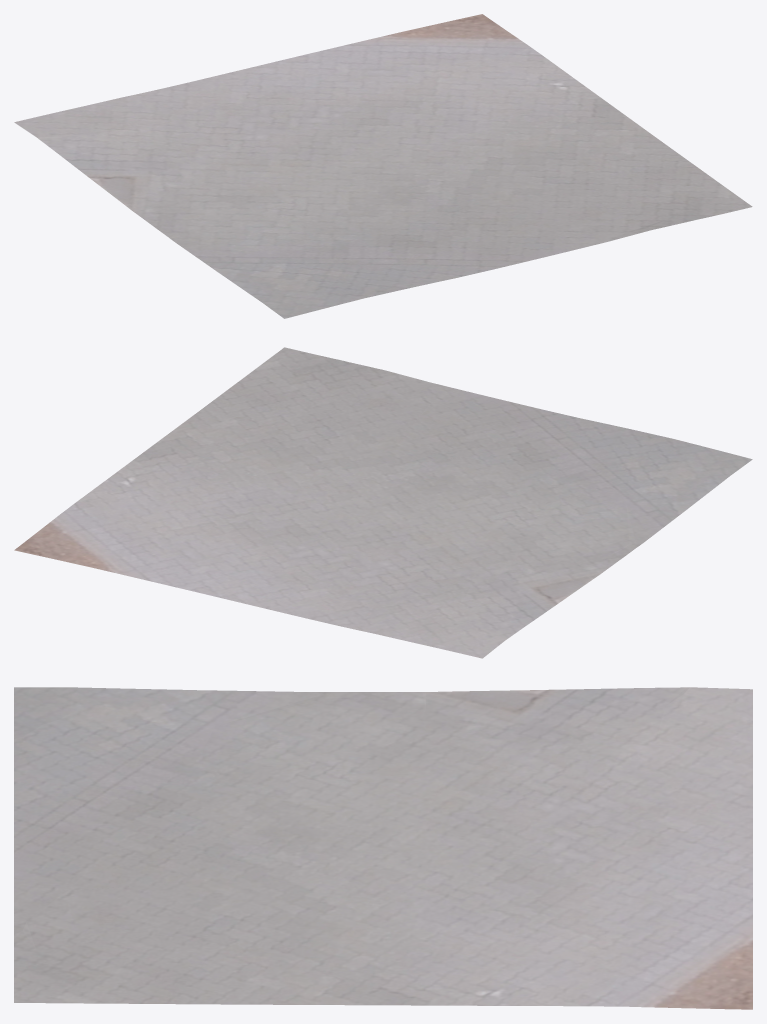
3 views of the same model, one above another, from view 1: azimuth 30°, elevation 25°; view 2: azimuth 150°, elevation 25°; view 3: azimuth 270°, elevation 25° (orthographic). The views are drawn at different scales.
Bounding box in the file's own units: 4.18 × 0.0717 × 4.18.
Materials: 2 (2 with a texture image).
